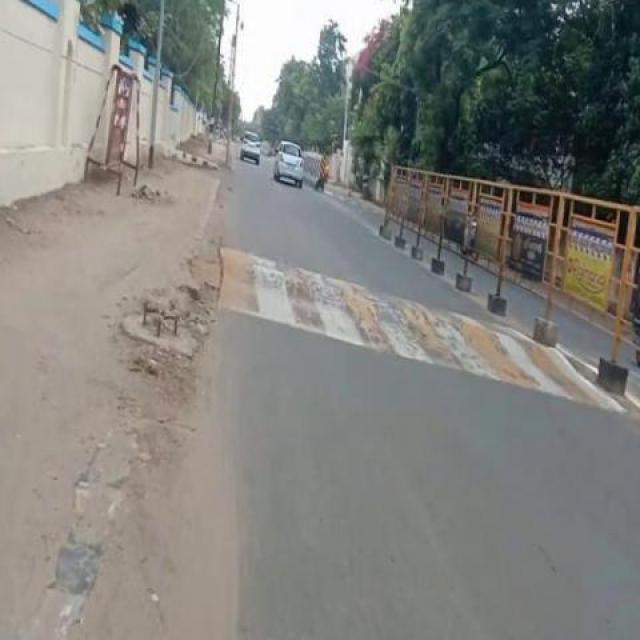Speed Bump: (217, 244, 396, 356), (397, 298, 488, 377), (536, 346, 598, 406), (490, 323, 536, 389), (630, 372, 638, 423)
